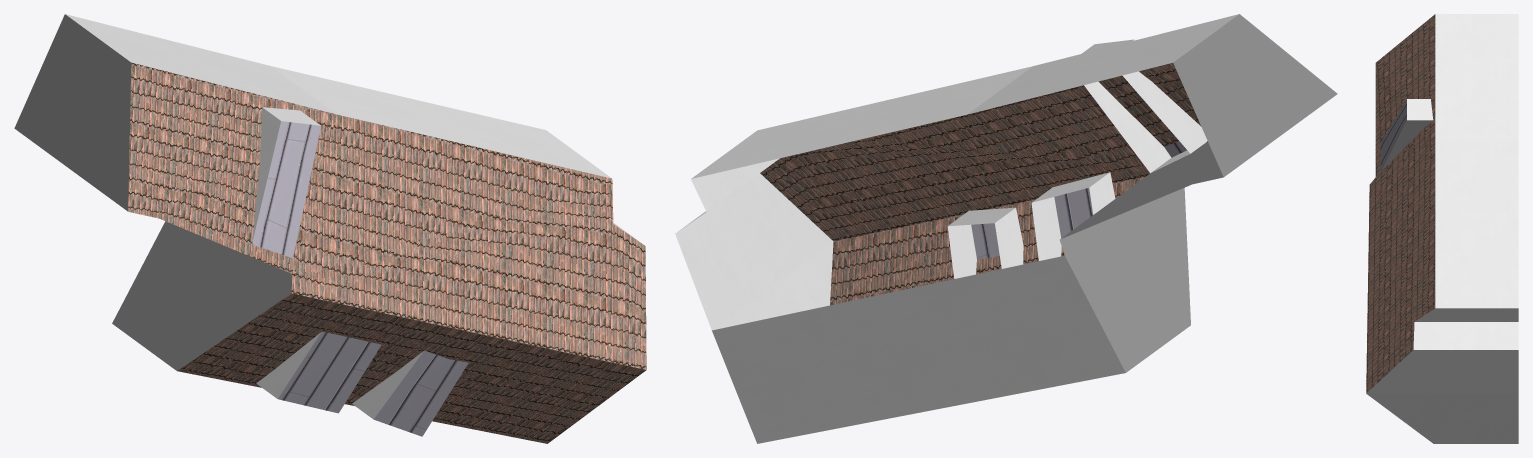
The model's file is Lai_36_a2-origo.obj.
3 renders of one model, left to right at view 1: azimuth 30°, elevation 25°; view 2: azimuth 150°, elevation 25°; view 3: azimuth 270°, elevation 25°, orthographic. The views are drawn at different scales.
Parts seen in each view (by area): view 1: Lai_36_a2; view 2: Lai_36_a2; view 3: Lai_36_a2.
Part boxes in pixels (x1=…): Lai_36_a2: x1=14, y1=14, x2=646, y2=443; Lai_36_a2: x1=675, y1=14, x2=1337, y2=443; Lai_36_a2: x1=1366, y1=14, x2=1518, y2=443.
Bounding box in the file's own units: 19.62 × 16.5 × 7.54.
